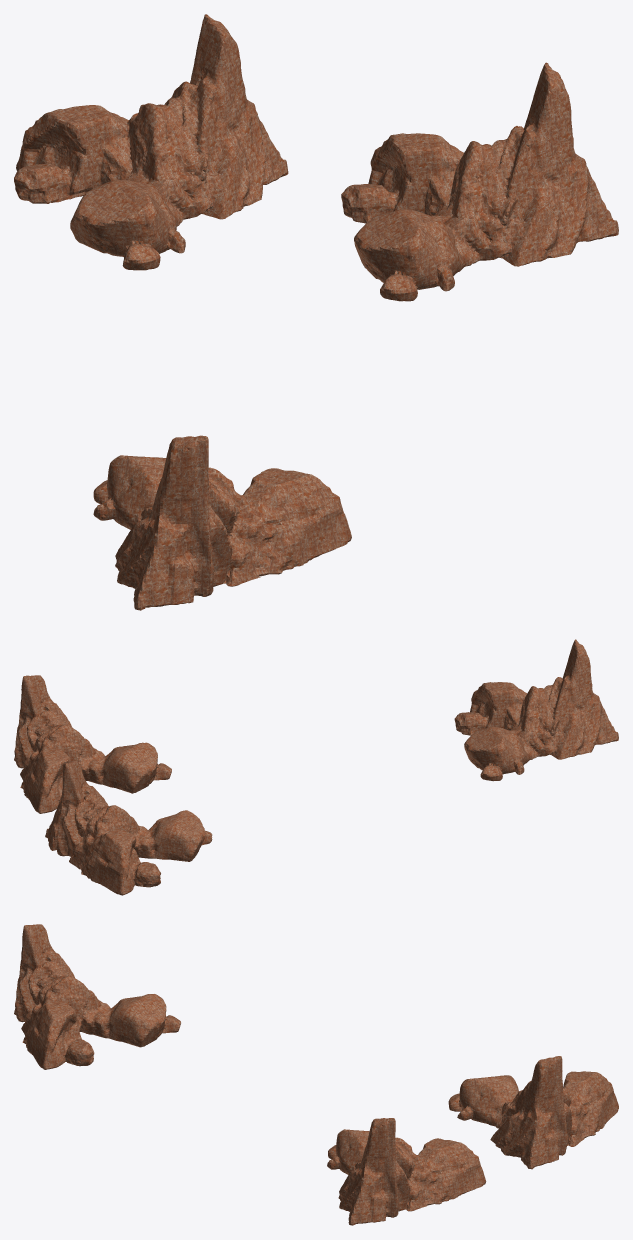
File: martian_boulder_02.dae
3 views of the same model, one above another, from view 1: azimuth 30°, elevation 25°; view 2: azimuth 150°, elevation 25°; view 3: azimuth 270°, elevation 25° (orthographic). The views are drawn at different scales.
Visible parts, largest first — view 1: 5.002; view 2: 5.002; view 3: 5.002.
Part boxes in pixels (x1,y1,x2,y2): 5.002: (14,14,618,610); 5.002: (14,639,618,895); 5.002: (14,924,618,1225).
Bounding box in the file's own units: 18.81 × 21.25 × 3.72.
3 materials, 3 textured.
